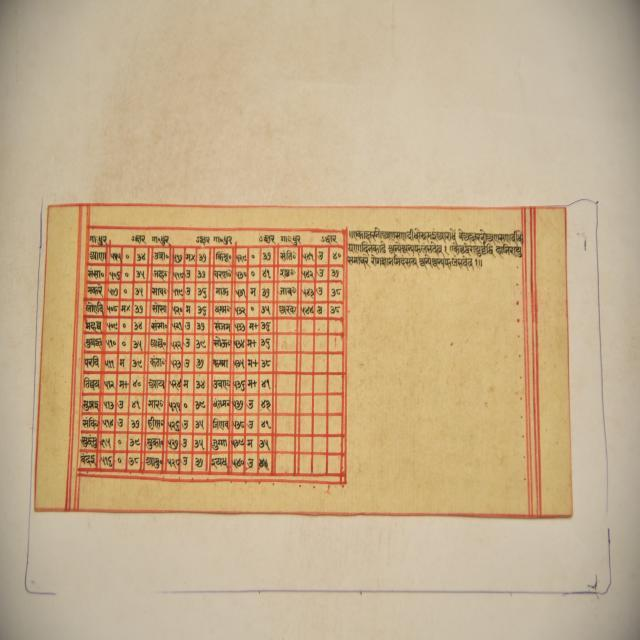text_paragraph: (33, 205, 574, 513)
